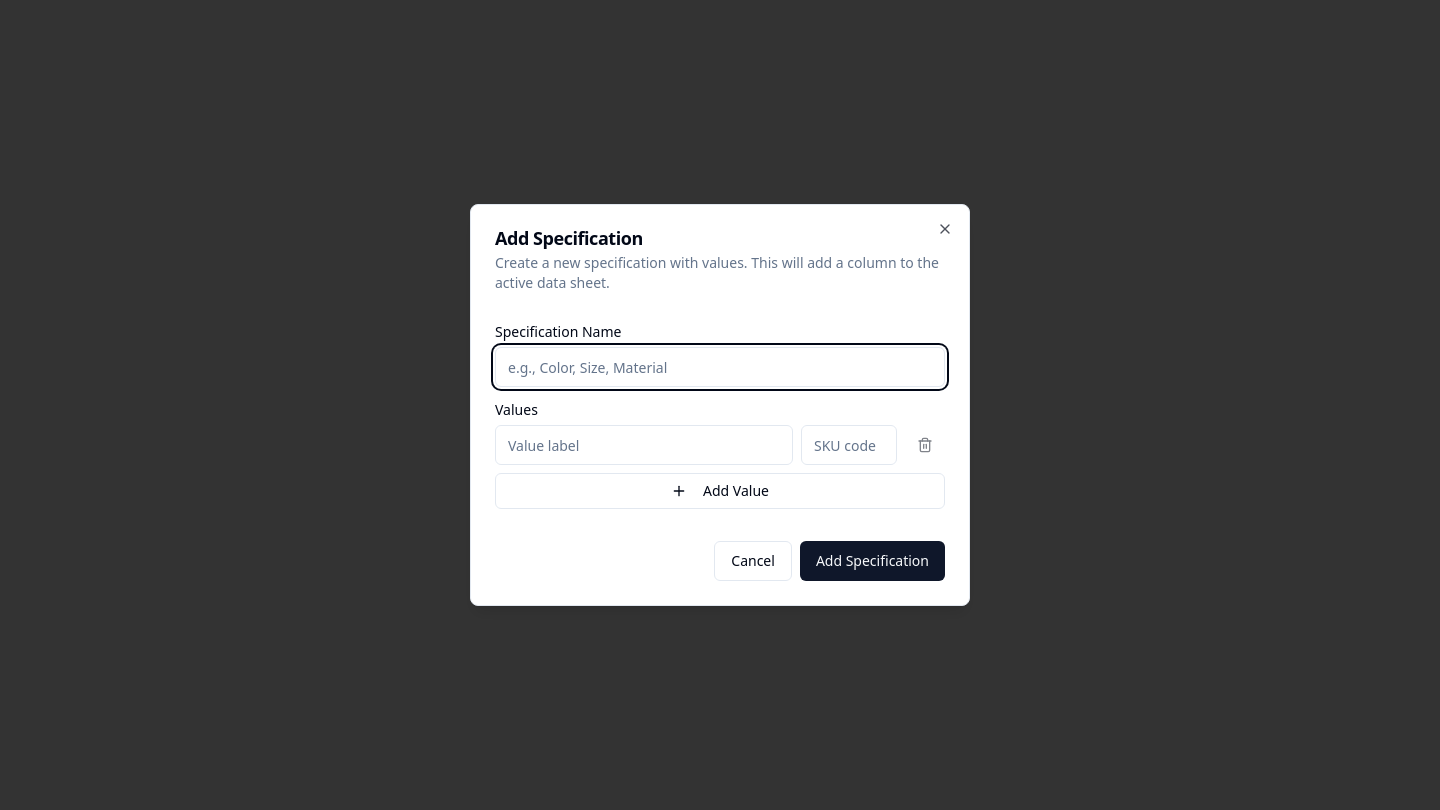
Scenario: AddSpecDialog › adds new value row when Add Value is clicked
This screenshot has width=1440, height=810.
Click the button "Add Value". click: (720, 491)
box: [495,473,945,509]
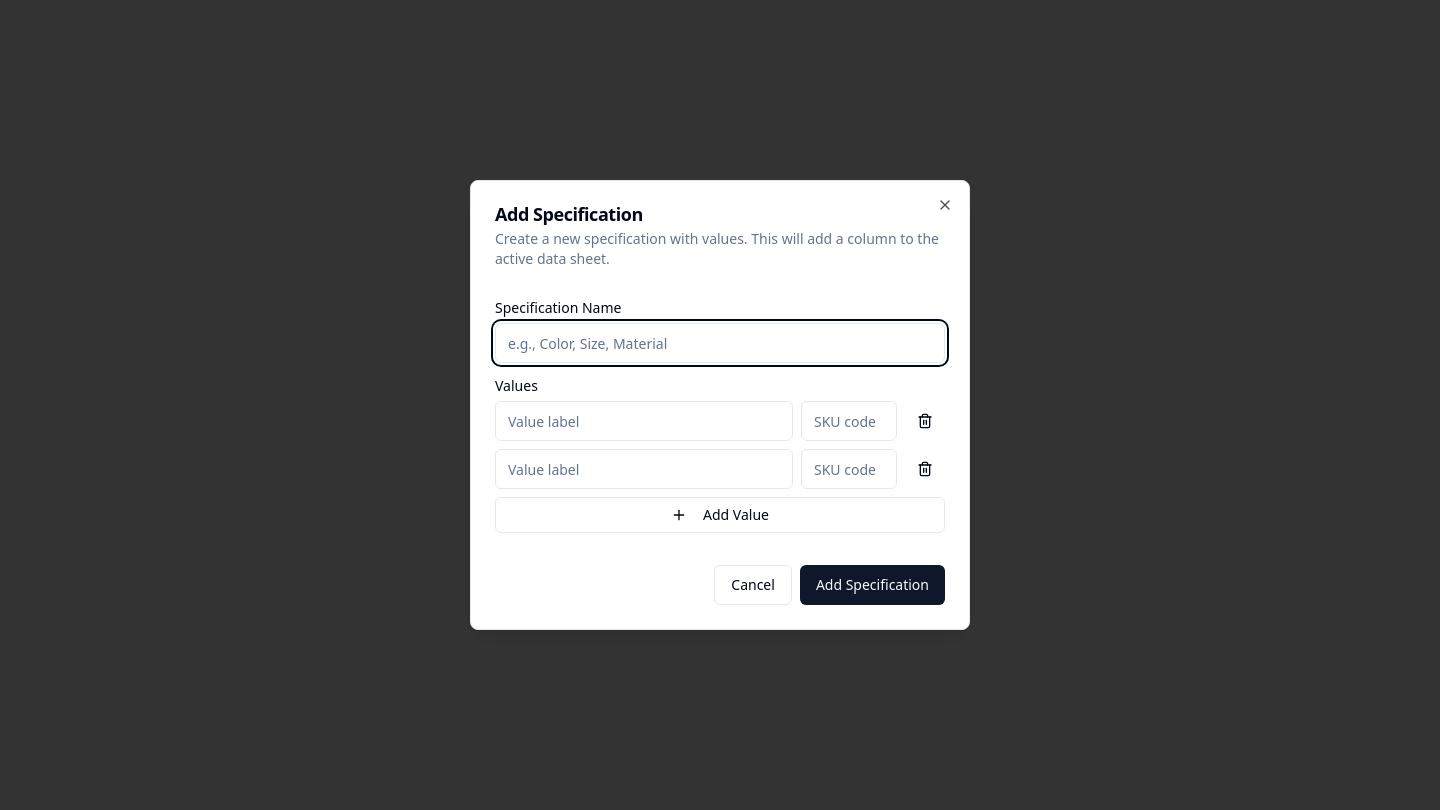
Result: the field named "Value 2 label" is shown at [495,449,793,489]
Result: the field named "Value 2 SKU code" is shown at [801,449,897,489]
